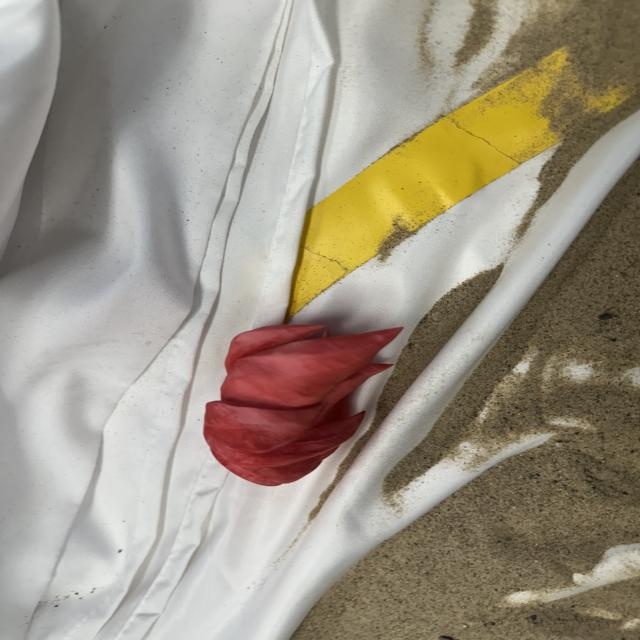fire: (201, 319, 405, 489)
